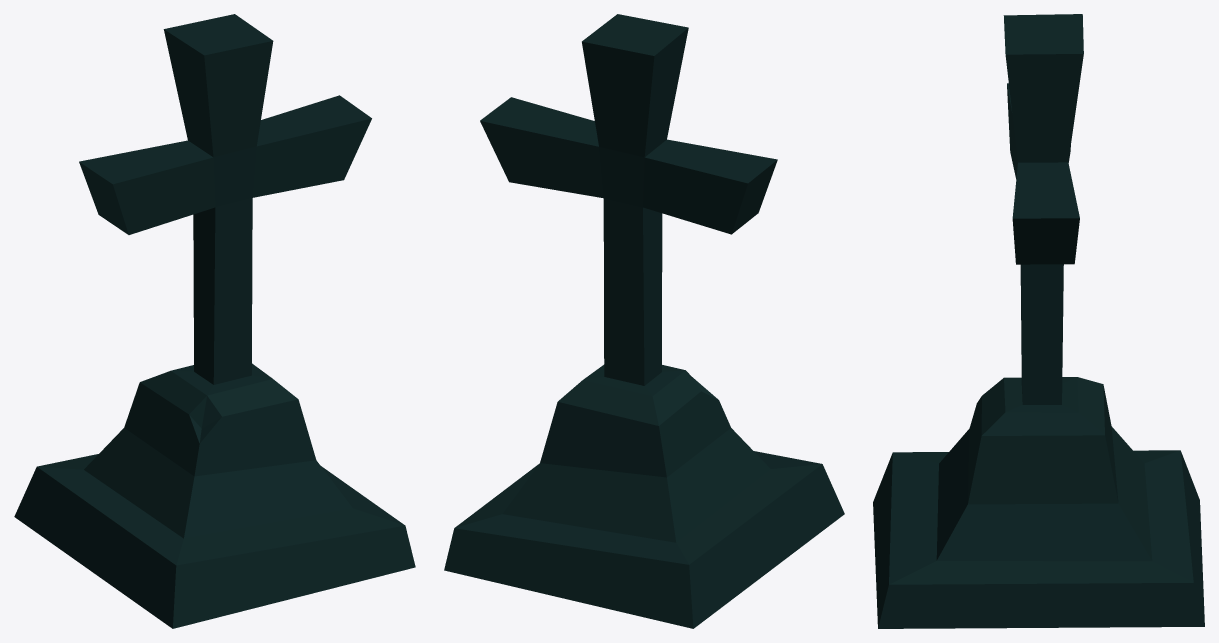
The model's file is cross_017_stone_0_lev1.glb.
3 renders of one model, left to right at view 1: azimuth 30°, elevation 25°; view 2: azimuth 150°, elevation 25°; view 3: azimuth 270°, elevation 25°, orthographic. The views are drawn at different scales.
Parts seen in each view (by area): view 1: cross_017_stone_0_lev1; view 2: cross_017_stone_0_lev1; view 3: cross_017_stone_0_lev1.
Part boxes in pixels (box(x1,y1,x2,y2)): cross_017_stone_0_lev1: box(14, 14, 415, 628); cross_017_stone_0_lev1: box(444, 14, 844, 628); cross_017_stone_0_lev1: box(873, 14, 1204, 628).
Bounding box in the file's own units: 0.3565 × 0.6391 × 0.3594.
